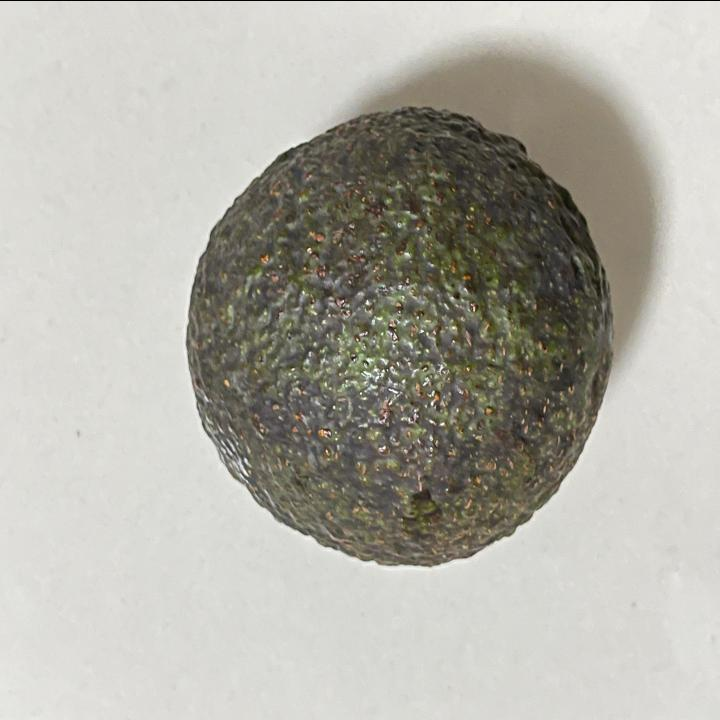Level1: (168, 88, 622, 586)
